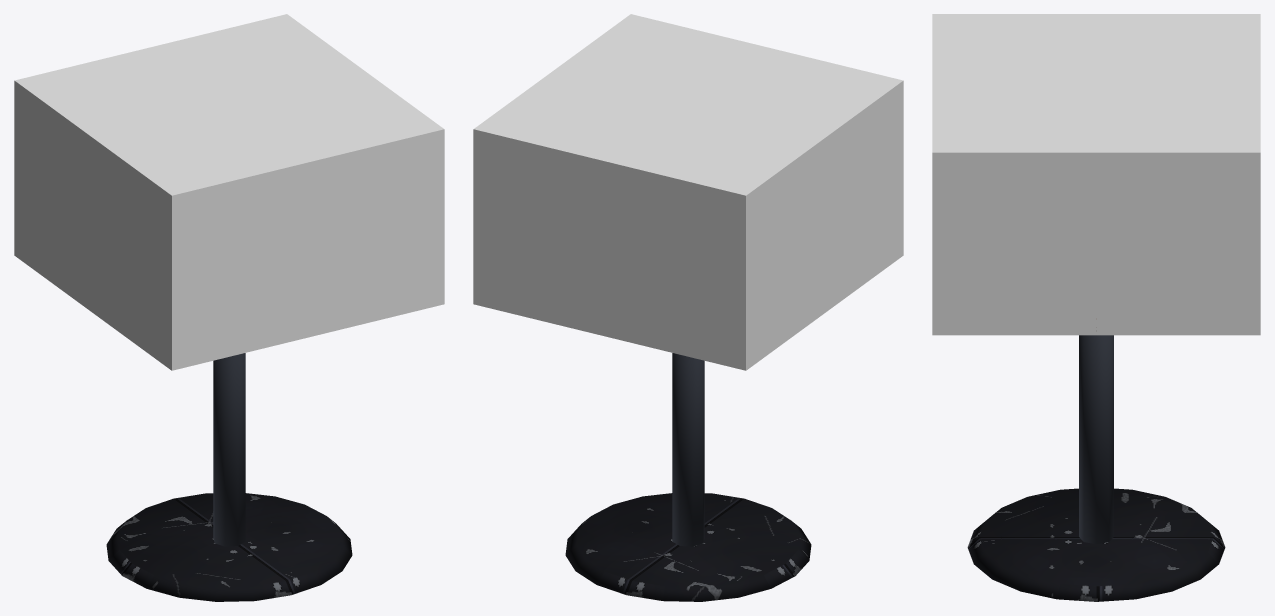
File: Furn_SideTable.001.gltf
The picture shows the model from 3 angles, left to right: view 1: azimuth 30°, elevation 25°; view 2: azimuth 150°, elevation 25°; view 3: azimuth 270°, elevation 25°; orthographic projection. The views are drawn at different scales.
Visible parts, largest first — view 1: Furn_SideTable.001_COL, Furn_SideTable.001; view 2: Furn_SideTable.001_COL, Furn_SideTable.001; view 3: Furn_SideTable.001_COL, Furn_SideTable.001.
Boxes of the visible parts, x1,y1,x2,y2 form: Furn_SideTable.001_COL: [14, 14, 444, 370]; Furn_SideTable.001: [106, 353, 352, 601]; Furn_SideTable.001_COL: [473, 14, 903, 370]; Furn_SideTable.001: [565, 353, 811, 601]; Furn_SideTable.001_COL: [932, 14, 1260, 335]; Furn_SideTable.001: [967, 335, 1225, 601].
Bounding box in the file's own units: 0.56 × 0.8737 × 0.56.
10 materials, 1 textured.
